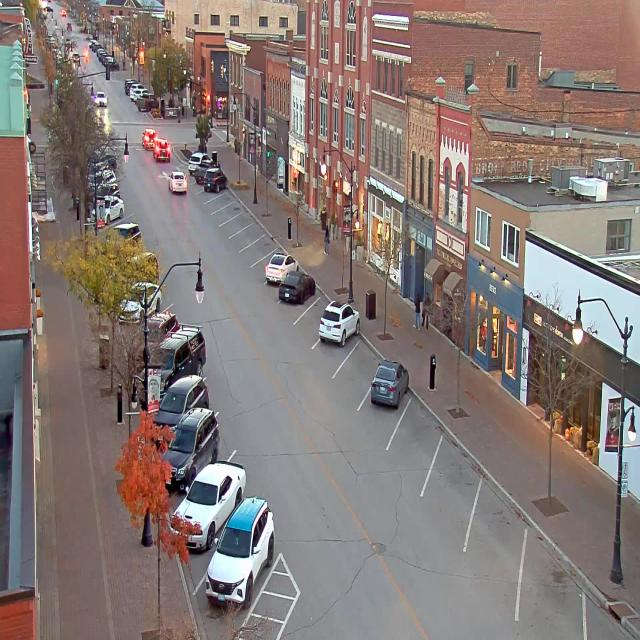available: (512, 542, 590, 640), (464, 491, 530, 582), (424, 442, 477, 526), (393, 392, 445, 468), (578, 588, 638, 639), (340, 332, 382, 397), (301, 288, 331, 334), (242, 234, 264, 265), (234, 226, 252, 247), (217, 203, 232, 225), (225, 214, 242, 232), (208, 195, 222, 213)
occupied: (171, 460, 246, 552), (219, 500, 290, 593), (150, 372, 209, 446), (167, 408, 226, 469), (161, 321, 212, 376), (318, 298, 360, 346), (370, 358, 409, 408), (278, 268, 315, 303), (267, 252, 291, 282), (203, 166, 226, 192), (192, 157, 208, 186), (187, 151, 207, 174)
